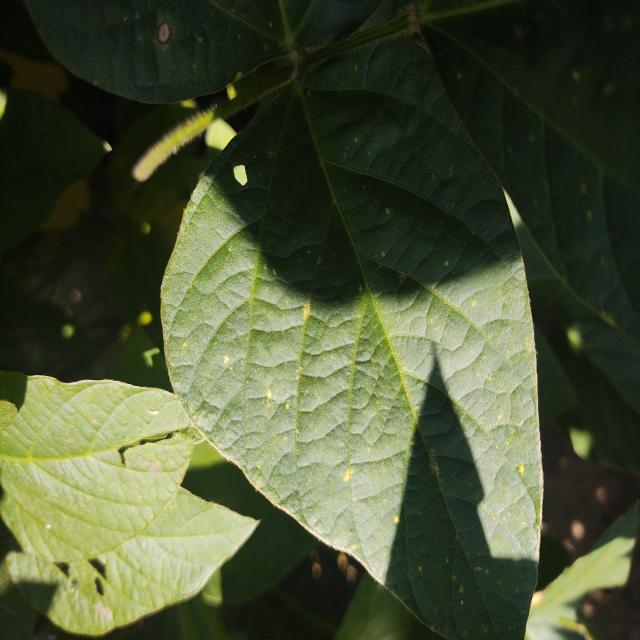Soybean: (0, 0, 640, 640)
downey_mildew: (336, 459, 366, 496), (515, 454, 538, 498), (213, 348, 240, 385), (255, 382, 284, 415), (259, 253, 286, 288), (463, 292, 491, 325), (478, 560, 503, 596), (451, 567, 471, 612), (307, 248, 333, 281), (438, 247, 460, 285), (344, 127, 370, 157), (219, 237, 244, 267), (373, 246, 396, 277), (350, 280, 375, 305), (299, 297, 318, 328), (389, 510, 409, 536), (411, 558, 434, 580), (379, 201, 395, 224)
